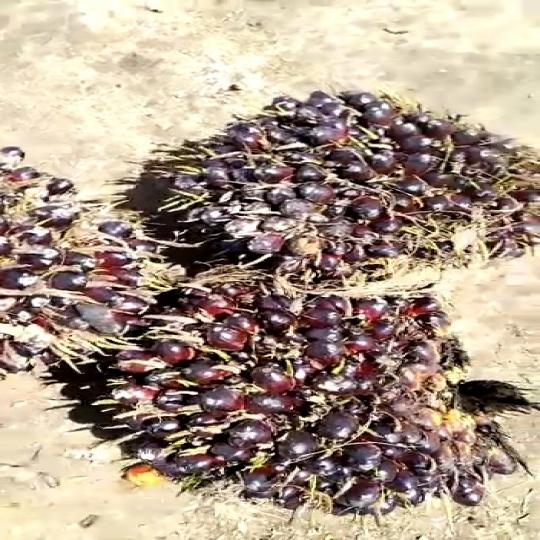mentah: (76, 272, 510, 514), (139, 82, 540, 310)
